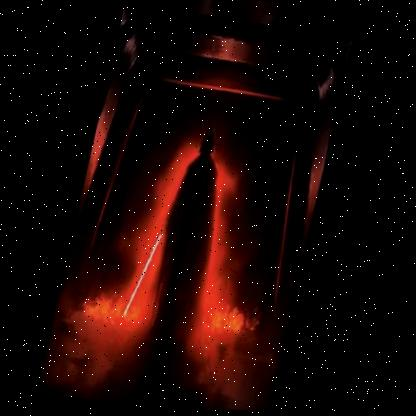sith_lightsaber: (119, 227, 164, 325)
